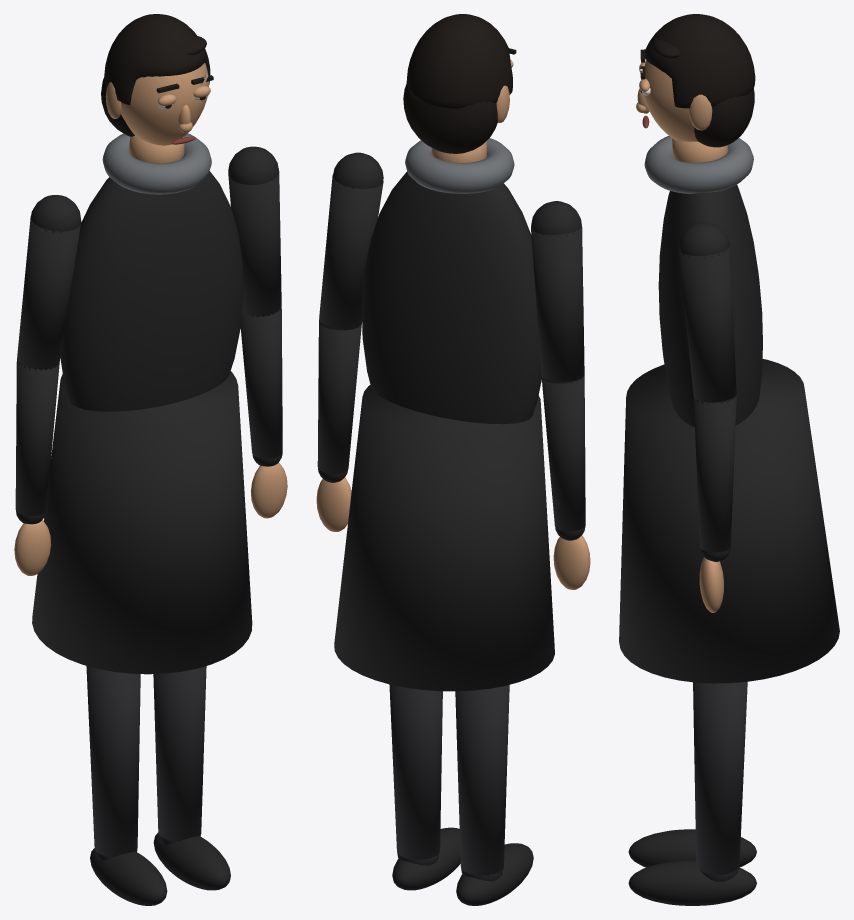
The model's file is minh.glb.
3 renders of one model, left to right at view 1: azimuth 30°, elevation 25°; view 2: azimuth 150°, elevation 25°; view 3: azimuth 270°, elevation 25°, orthographic.
Parts seen in each view (by area): view 1: Cone.004, Sphere.011, Cone.001, Cone.003, Cone.006, Cone.008, Cone.007, Sphere.026, Cone.009, Torus, Sphere.014, Sphere.009 (+6 smaller); view 2: Cone.004, Sphere.011, Cone.001, Cone.003, Sphere.026, Cone.006, Cone.008, Cone.007, Cone.009, Sphere.027, Torus, Sphere.004 (+6 smaller); view 3: Cone.004, Sphere.011, Cone.003, Sphere.026, Cone.008, Cone.009, Sphere.009, Torus, Sphere.004, Sphere.014, Sphere.027, Sphere.034 (+3 smaller).
Part boxes in pixels (x1=…): Cone.004: x1=32, y1=371, x2=252, y2=674; Sphere.011: x1=60, y1=171, x2=243, y2=411; Cone.001: x1=86, y1=666, x2=140, y2=856; Cone.003: x1=153, y1=666, x2=206, y2=841; Cone.006: x1=17, y1=216, x2=80, y2=369; Cone.008: x1=228, y1=168, x2=281, y2=317; Cone.007: x1=15, y1=360, x2=59, y2=515; Sphere.026: x1=104, y1=14, x2=210, y2=104; Cone.009: x1=240, y1=307, x2=282, y2=458; Torus: x1=102, y1=133, x2=211, y2=194; Sphere.014: x1=121, y1=63, x2=208, y2=145; Sphere.009: x1=153, y1=832, x2=230, y2=890; Cone.004: x1=334, y1=385, x2=554, y2=691; Sphere.011: x1=361, y1=171, x2=541, y2=424; Cone.001: x1=455, y1=685, x2=509, y2=875; Cone.003: x1=389, y1=684, x2=442, y2=859; Sphere.026: x1=406, y1=14, x2=512, y2=108; Cone.006: x1=531, y1=225, x2=584, y2=382; Cone.008: x1=319, y1=174, x2=383, y2=329; Cone.007: x1=541, y1=375, x2=585, y2=531; Cone.009: x1=317, y1=319, x2=361, y2=474; Sphere.027: x1=403, y1=84, x2=497, y2=153; Torus: x1=405, y1=138, x2=514, y2=193; Sphere.004: x1=456, y1=843, x2=533, y2=905; Cone.004: x1=619, y1=359, x2=839, y2=683; Sphere.011: x1=658, y1=184, x2=762, y2=427; Cone.003: x1=693, y1=682, x2=747, y2=874; Sphere.026: x1=644, y1=14, x2=755, y2=108; Cone.008: x1=678, y1=246, x2=736, y2=402; Cone.009: x1=693, y1=395, x2=736, y2=552; Sphere.009: x1=628, y1=860, x2=756, y2=905; Torus: x1=644, y1=136, x2=753, y2=193; Sphere.004: x1=628, y1=829, x2=756, y2=867; Sphere.014: x1=643, y1=60, x2=697, y2=141; Sphere.027: x1=694, y1=88, x2=754, y2=147; Sphere.034: x1=678, y1=222, x2=729, y2=258.
Bounding box in the file's own units: 0.562 × 1.72 × 0.3955.
